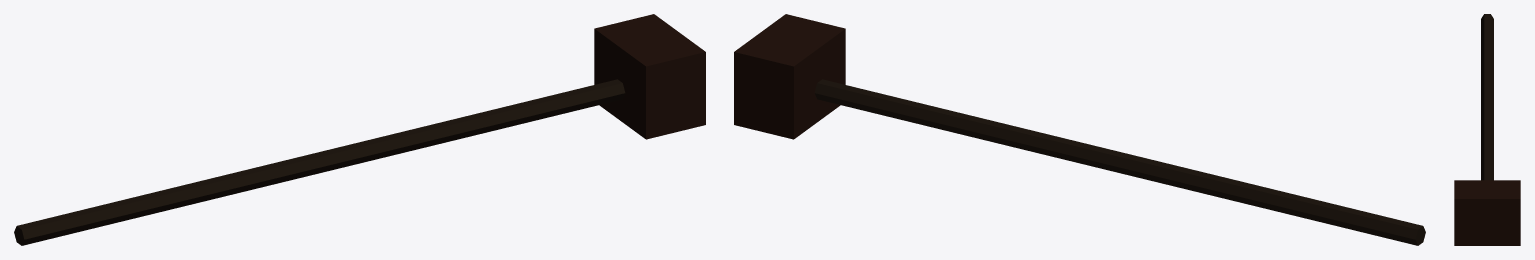
The model's file is HOE.dae.
The picture shows the model from 3 angles, left to right: view 1: azimuth 30°, elevation 25°; view 2: azimuth 150°, elevation 25°; view 3: azimuth 270°, elevation 25°; orthographic projection. The views are drawn at different scales.
Parts seen in each view (by area): view 1: HOE; view 2: HOE; view 3: HOE.
Boxes of the visible parts, x1,y1,x2,y2 form: HOE: (14, 14, 705, 245); HOE: (734, 14, 1425, 245); HOE: (1454, 14, 1520, 245).
Bounding box in the file's own units: 1.32 × 0.18 × 0.14.
